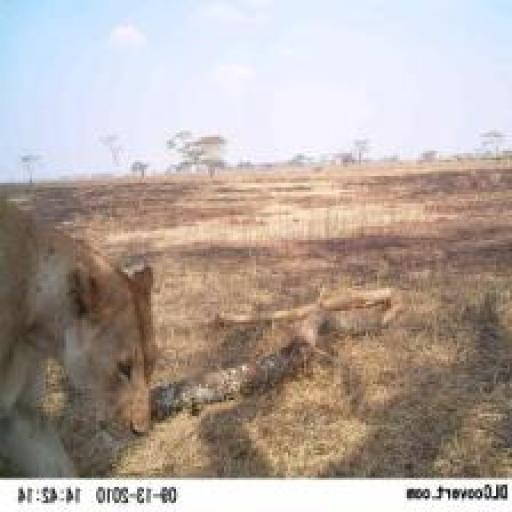lion: (0, 185, 170, 477)
